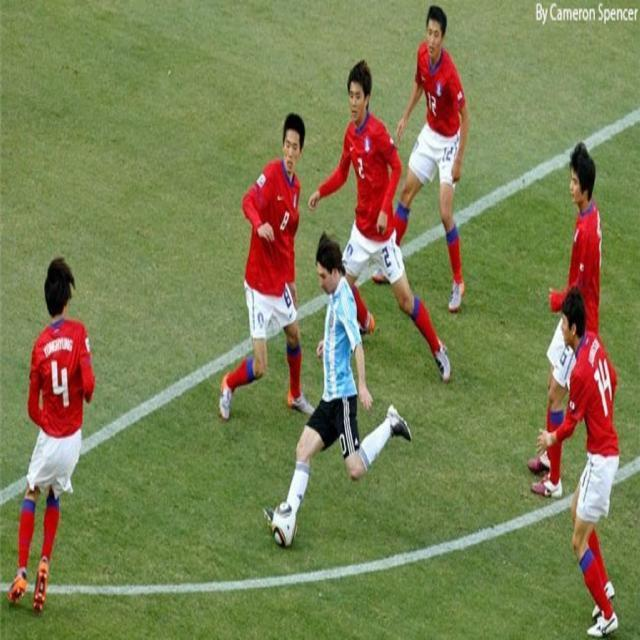football: (247, 503, 312, 553)
